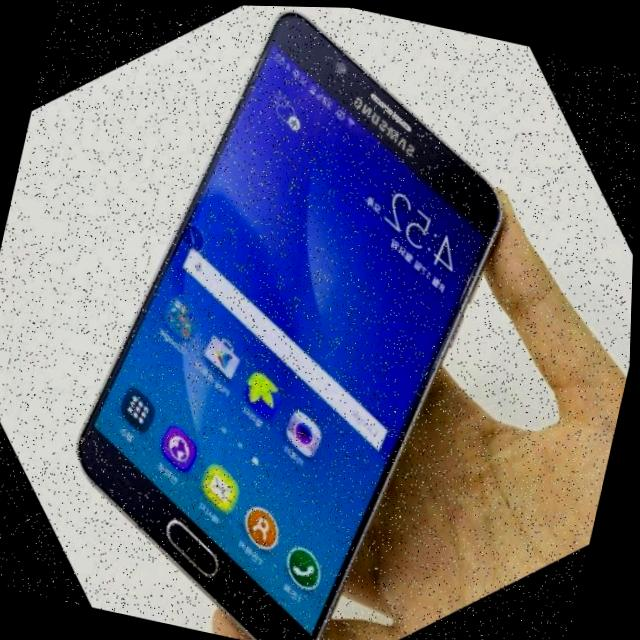Smartphone: (67, 5, 523, 640)
